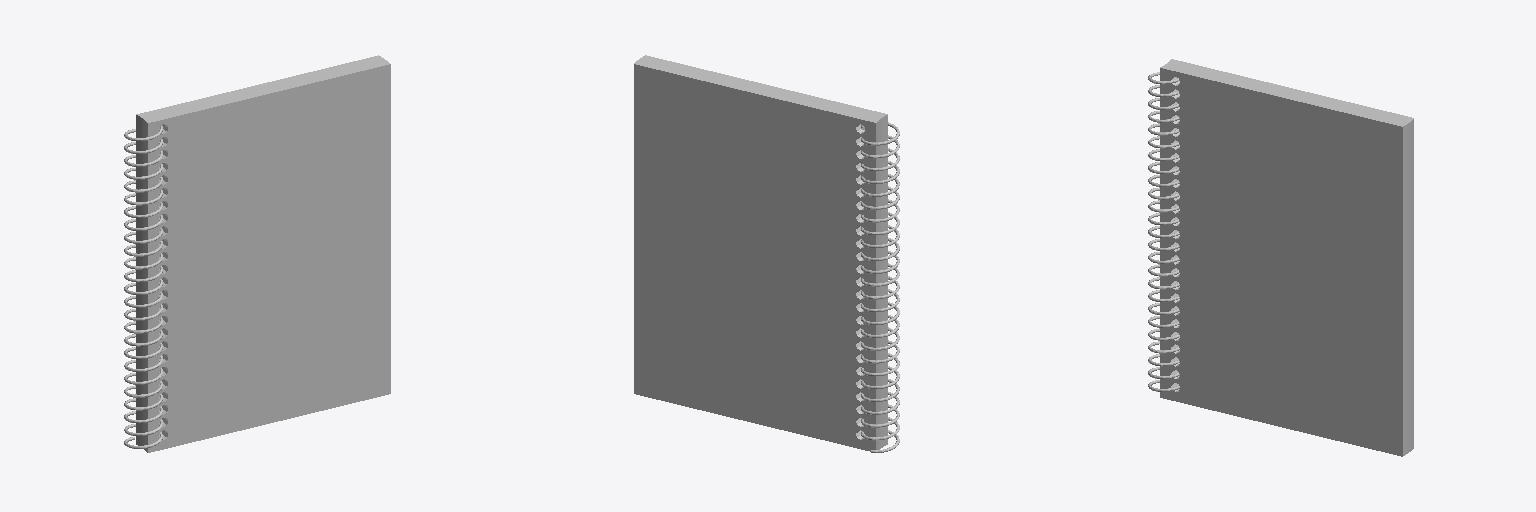
Rendered from Spiral Notebook.obj.
3 renders of one model, left to right at view 1: azimuth 30°, elevation 25°; view 2: azimuth 150°, elevation 25°; view 3: azimuth 330°, elevation 25°, orthographic.
Visible parts, largest first — view 1: Spiral_Notebook; view 2: Spiral_Notebook; view 3: Spiral_Notebook.
Boxes of the visible parts, box(x1,y1,x2,y2) form: Spiral_Notebook: box(124, 55, 390, 452); Spiral_Notebook: box(634, 55, 899, 452); Spiral_Notebook: box(1148, 59, 1413, 456).
Bounding box in the file's own units: 0.2372 × 0.289 × 0.0312.